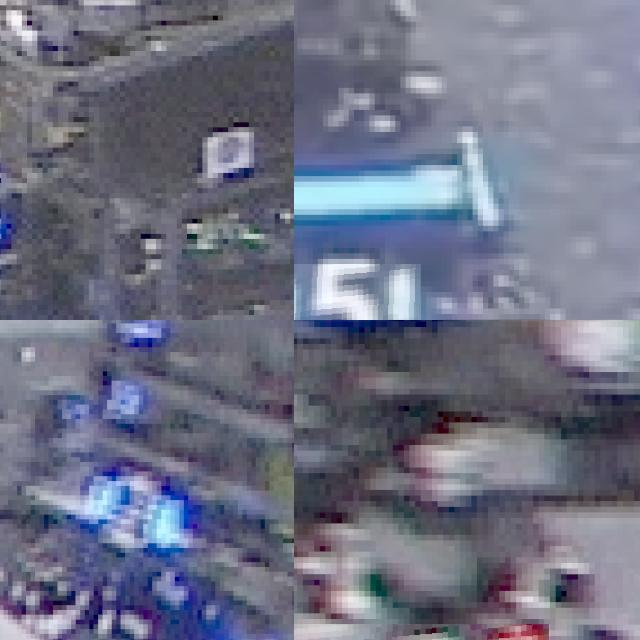B2: (60, 466, 186, 576)
B5: (294, 264, 420, 320)
R1: (294, 624, 549, 640)
